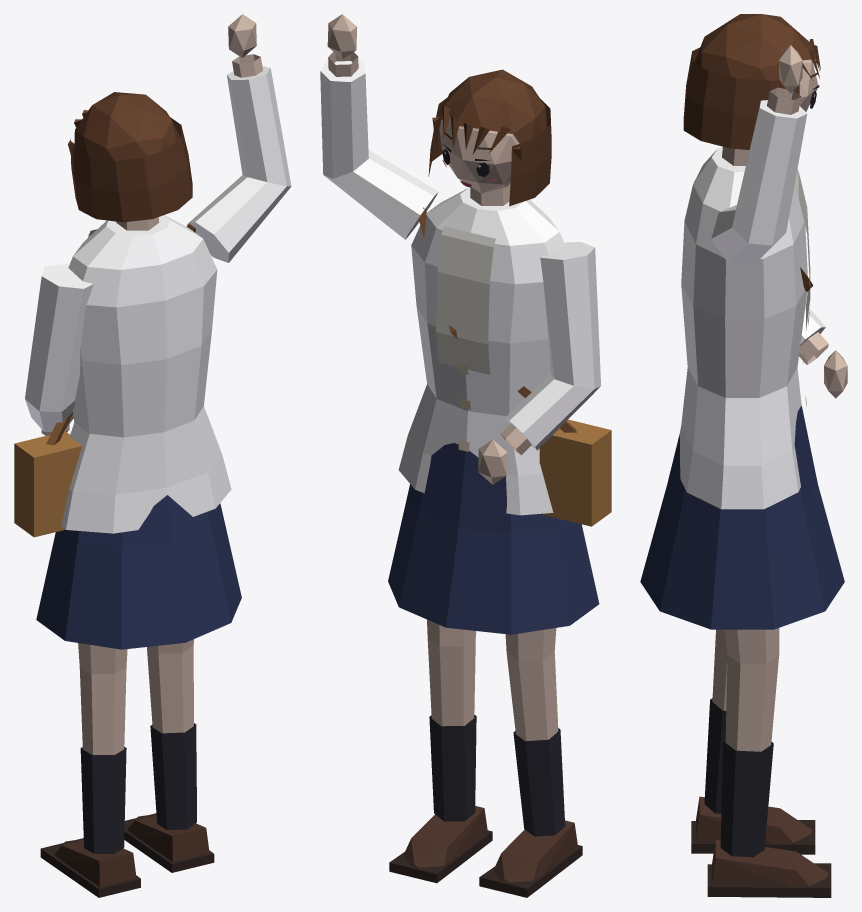
Rendered from spectator_b.glb.
3 views of the same model, side by side, from view 1: azimuth 30°, elevation 25°; view 2: azimuth 150°, elevation 25°; view 3: azimuth 270°, elevation 25° (orthographic). The views are drawn at different scales.
Parts seen in each view (by area): view 1: spectator_b; view 2: spectator_b; view 3: spectator_b.
Part boxes in pixels (left/top/right/bottom): spectator_b: left=14, top=14, right=291, bottom=897; spectator_b: left=320, top=14, right=611, bottom=897; spectator_b: left=640, top=14, right=847, bottom=897.
Size of the model in its own units: 0.6267 by 1.82 by 0.3852.
